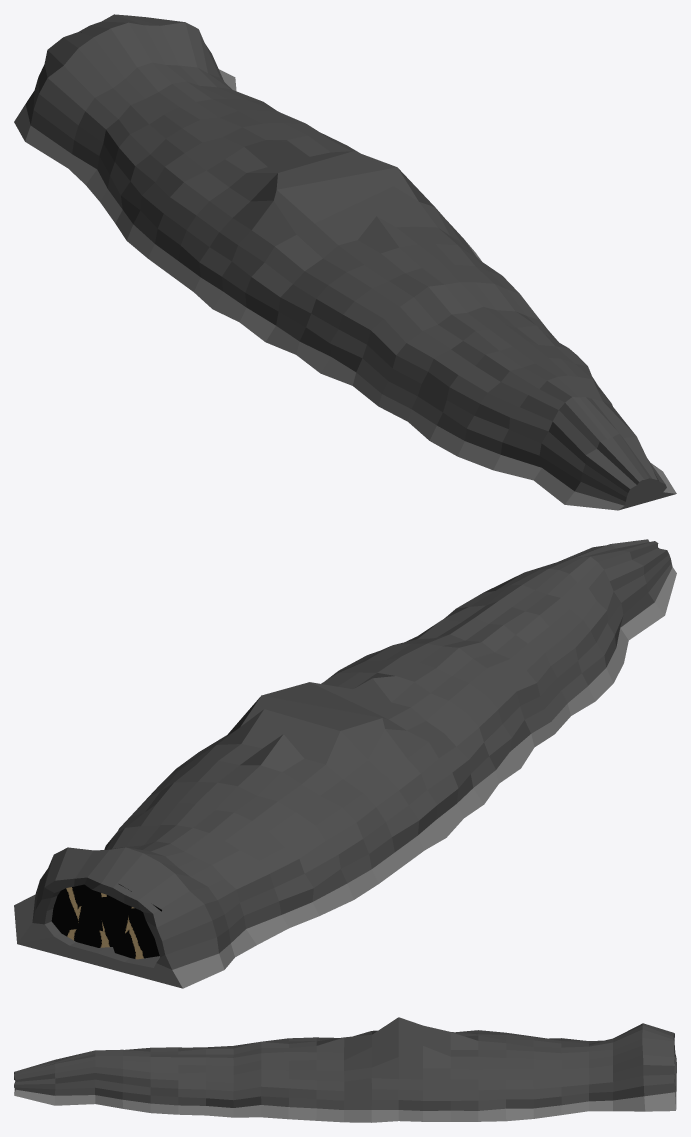
Rendered from AllEarsBody.fbx.
The picture shows the model from 3 angles, top to bottom: view 1: azimuth 30°, elevation 25°; view 2: azimuth 150°, elevation 25°; view 3: azimuth 270°, elevation 25°; orthographic projection. The views are drawn at different scales.
Visible parts, largest first — view 1: AllEarsBody; view 2: AllEarsBody; view 3: AllEarsBody.
Boxes of the visible parts, x1,y1,x2,y2 form: AllEarsBody: [14, 14, 676, 510]; AllEarsBody: [14, 539, 676, 988]; AllEarsBody: [14, 1017, 676, 1122].
Size of the model in its own units: 221 by 102 by 876.
